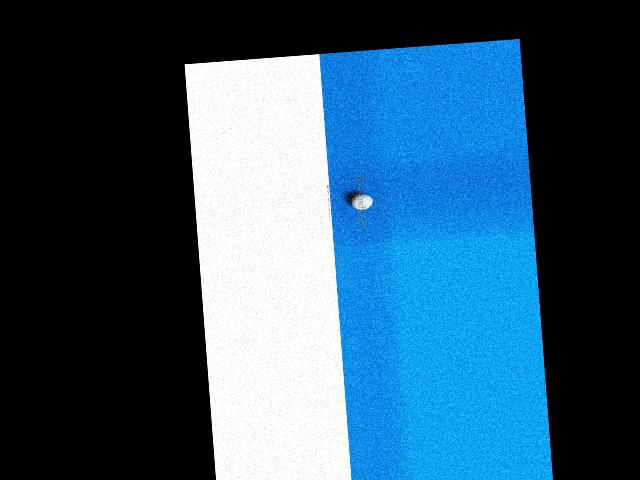egg: (350, 193, 373, 210)
